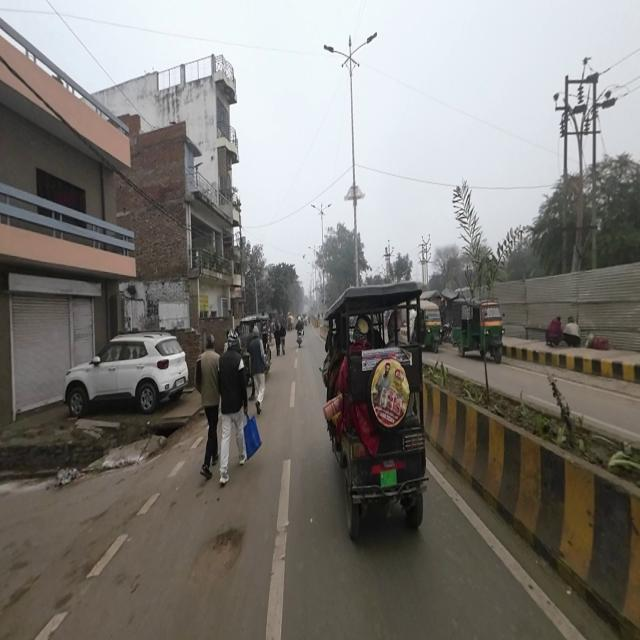Garbage: (51, 462, 78, 492)
